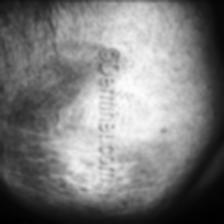Non-Cancerous Skin Condition: (12, 48, 92, 206), (124, 126, 162, 206)
